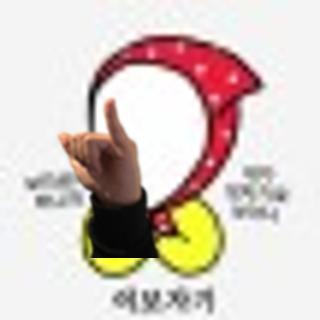HAVE: (47, 93, 144, 205)
